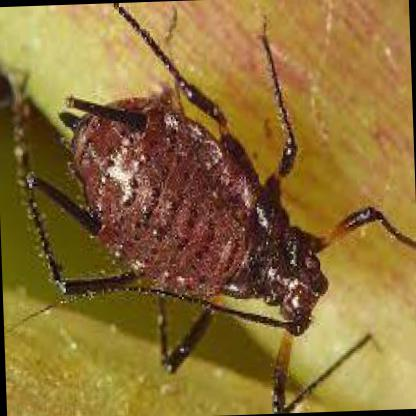uroleucon compositae: (25, 6, 385, 340)
